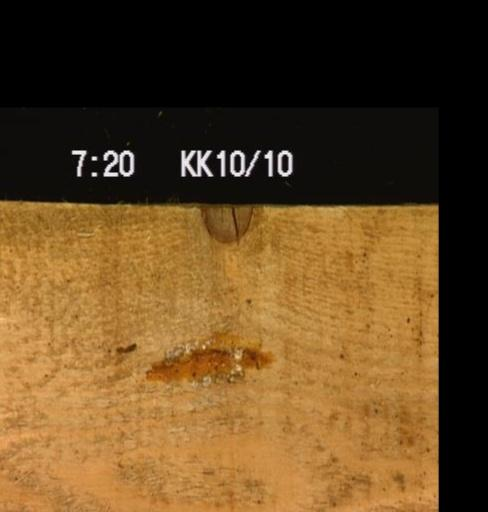edge_knot: (194, 203, 254, 242)
